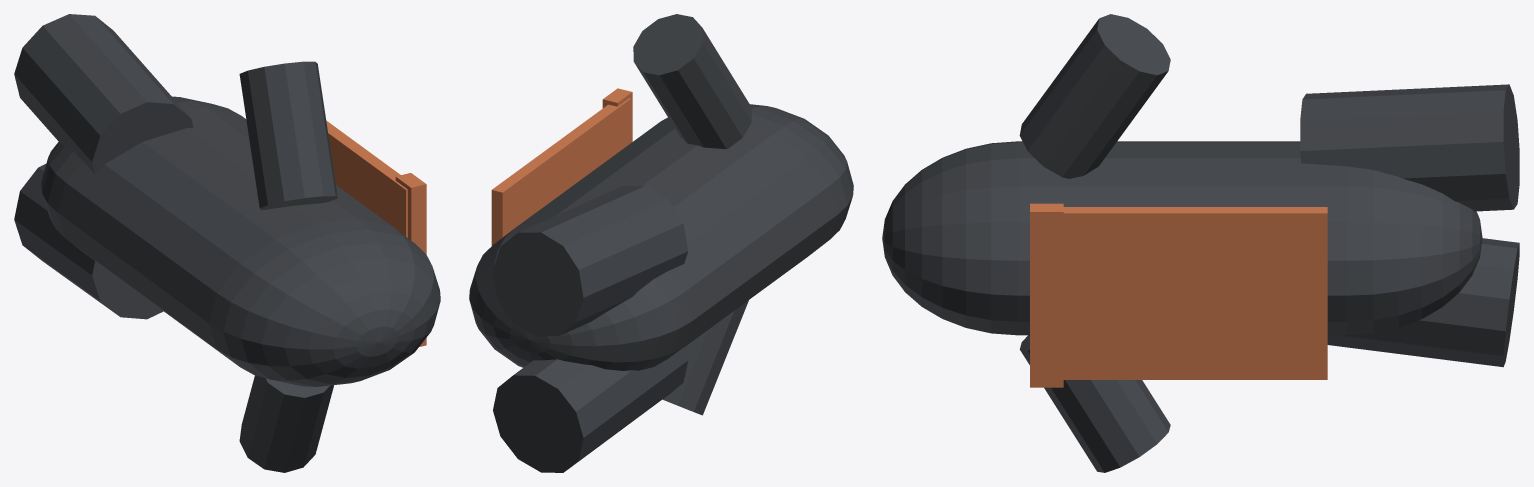
3 views of the same model, side by side, from view 1: azimuth 30°, elevation 25°; view 2: azimuth 150°, elevation 25°; view 3: azimuth 270°, elevation 25° (orthographic). The views are drawn at different scales.
Visible parts, largest first — view 1: geometry_0; view 2: geometry_0; view 3: geometry_0.
Boxes of the visible parts, <box> form: geometry_0: <box>14,14,440,472</box>; geometry_0: <box>469,14,853,472</box>; geometry_0: <box>882,14,1519,472</box>.
Size of the model in its own units: 0.29 by 0.508 by 0.6584.
